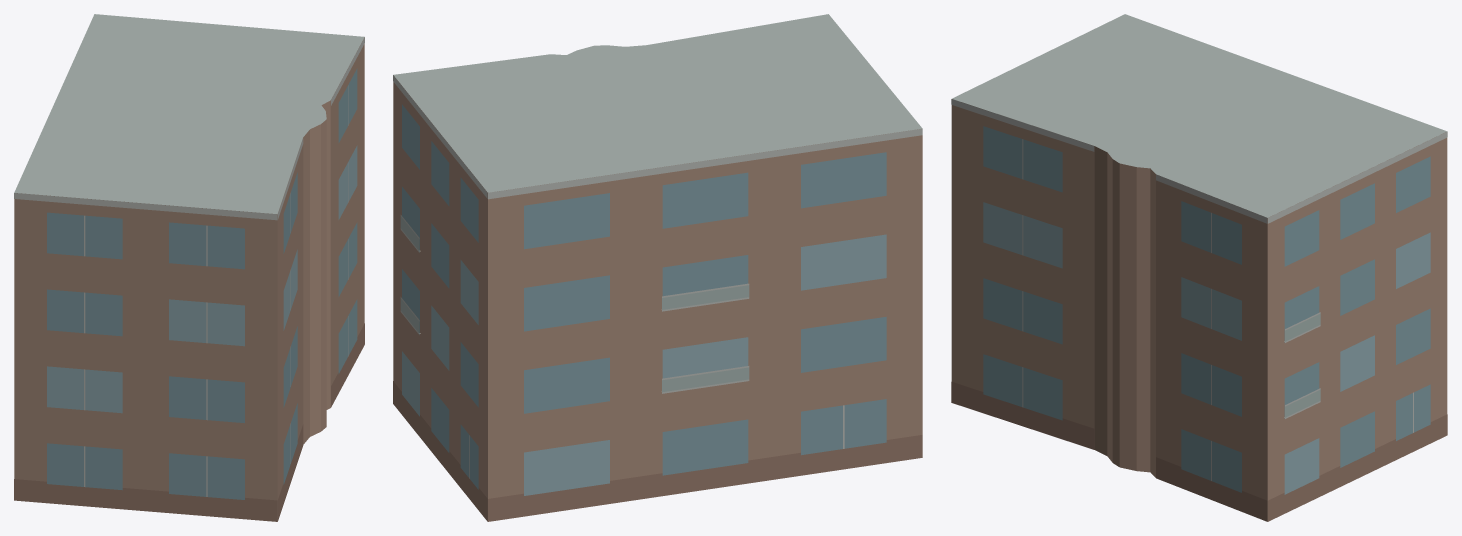
File: survey-upis-32885620.glb
3 views of the same model, side by side, from view 1: azimuth 30°, elevation 25°; view 2: azimuth 150°, elevation 25°; view 3: azimuth 270°, elevation 25° (orthographic). The views are drawn at different scales.
Visible parts, largest first — view 1: survey-upis-32885620.tmp; view 2: survey-upis-32885620.tmp; view 3: survey-upis-32885620.tmp.
Part boxes in pixels (box(x1,y1,x2,y2)): survey-upis-32885620.tmp: box(14, 14, 364, 521); survey-upis-32885620.tmp: box(393, 14, 922, 521); survey-upis-32885620.tmp: box(951, 14, 1447, 521).
Size of the model in its own units: 17.55 by 12.2 by 18.04.
